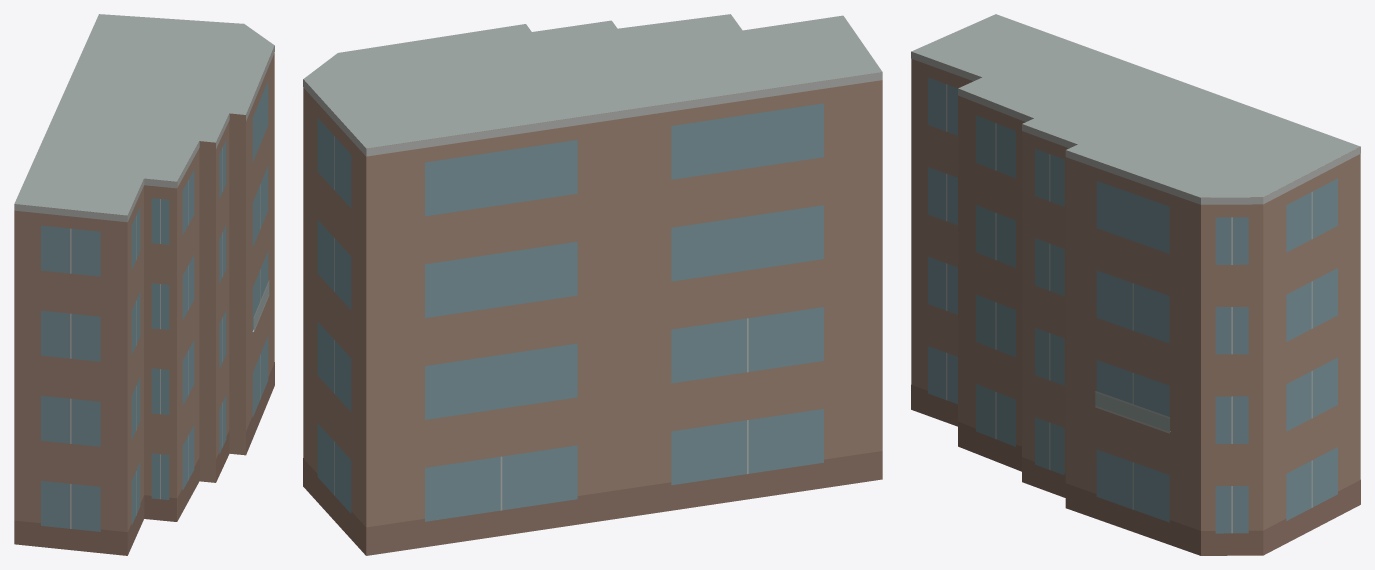
The model's file is survey-upis-33016278.glb.
3 renders of one model, left to right at view 1: azimuth 30°, elevation 25°; view 2: azimuth 150°, elevation 25°; view 3: azimuth 270°, elevation 25°, orthographic. The views are drawn at different scales.
Parts seen in each view (by area): view 1: survey-upis-33016278.tmp; view 2: survey-upis-33016278.tmp; view 3: survey-upis-33016278.tmp.
Boxes of the visible parts, bbox=[...] form: survey-upis-33016278.tmp: bbox=[14, 14, 274, 555]; survey-upis-33016278.tmp: bbox=[303, 14, 882, 555]; survey-upis-33016278.tmp: bbox=[911, 14, 1360, 555].
Size of the model in its own units: 13.66 by 12.4 by 14.12.
